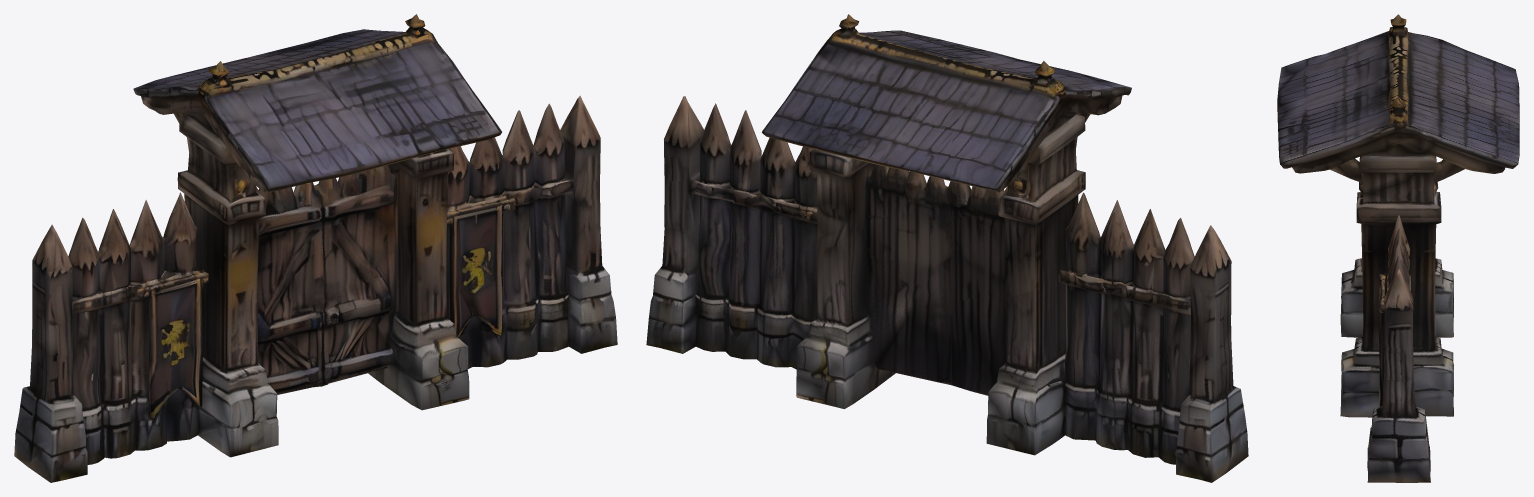
Rendered from n_palisade.glb.
3 views of the same model, side by side, from view 1: azimuth 30°, elevation 25°; view 2: azimuth 150°, elevation 25°; view 3: azimuth 270°, elevation 25° (orthographic). The views are drawn at different scales.
Visible parts, largest first — view 1: tripo_node_be21c903-b118-44bc-8d69-18b5f38aa4f8; view 2: tripo_node_be21c903-b118-44bc-8d69-18b5f38aa4f8; view 3: tripo_node_be21c903-b118-44bc-8d69-18b5f38aa4f8.
Part boxes in pixels (left/top/right/bottom): tripo_node_be21c903-b118-44bc-8d69-18b5f38aa4f8: left=14, top=14, right=617, bottom=482; tripo_node_be21c903-b118-44bc-8d69-18b5f38aa4f8: left=646, top=14, right=1248, bottom=482; tripo_node_be21c903-b118-44bc-8d69-18b5f38aa4f8: left=1277, top=14, right=1519, bottom=482.
Size of the model in its own units: 4 by 2.47 by 1.73.
Materials: 1 (1 with a texture image).
